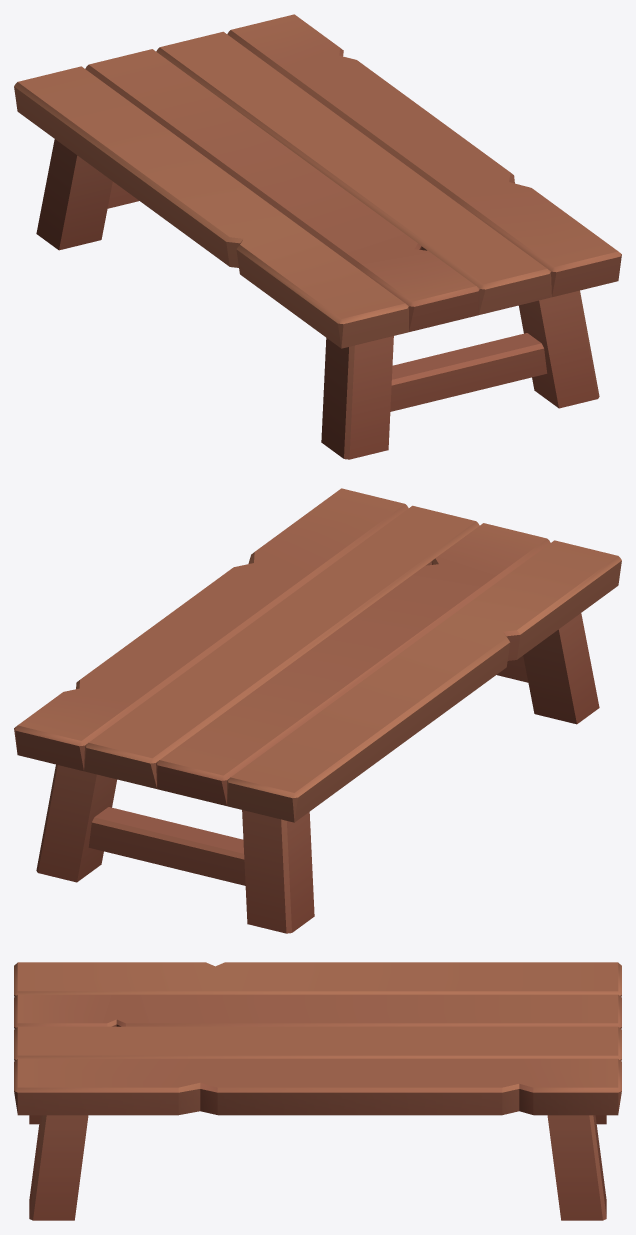
The model's file is prop_table_long.glb.
3 views of the same model, one above another, from view 1: azimuth 30°, elevation 25°; view 2: azimuth 150°, elevation 25°; view 3: azimuth 270°, elevation 25° (orthographic). The views are drawn at different scales.
Visible parts, largest first — view 1: table_long; view 2: table_long; view 3: table_long.
Boxes of the visible parts, bbox=[...] form: table_long: bbox=[14, 14, 621, 459]; table_long: bbox=[14, 488, 621, 933]; table_long: bbox=[14, 962, 621, 1220].
Size of the model in its own units: 2 by 1 by 4.
1 material, 1 textured.
